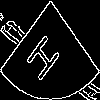H: (25, 25, 66, 84)
